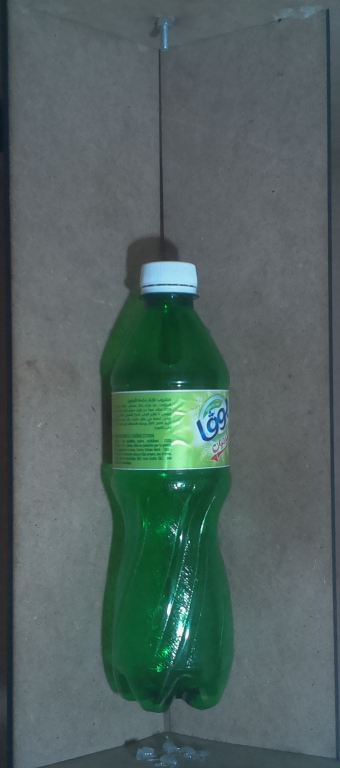Bouteille_0.5L: (98, 254, 240, 716)
